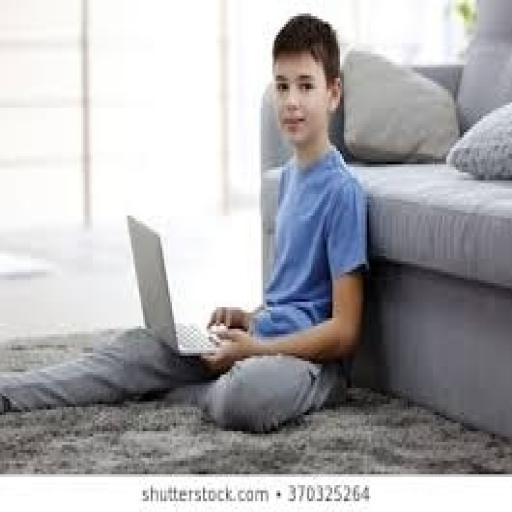using_laptop: (124, 210, 232, 358)
